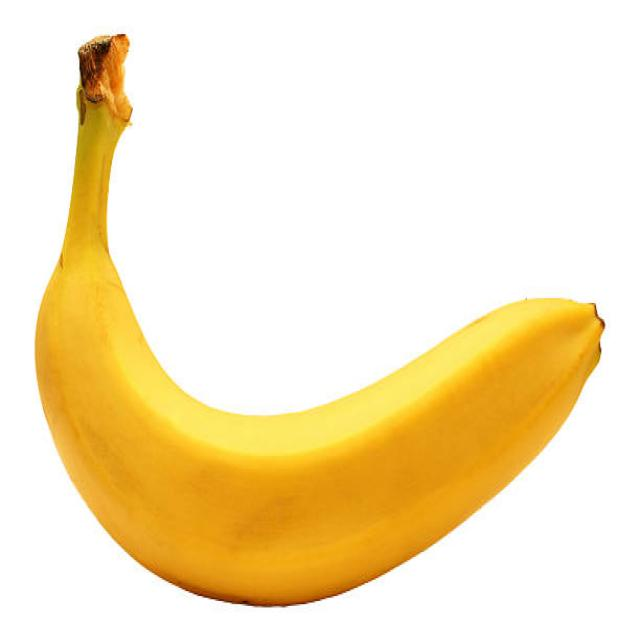Ripe: (32, 72, 609, 608)
